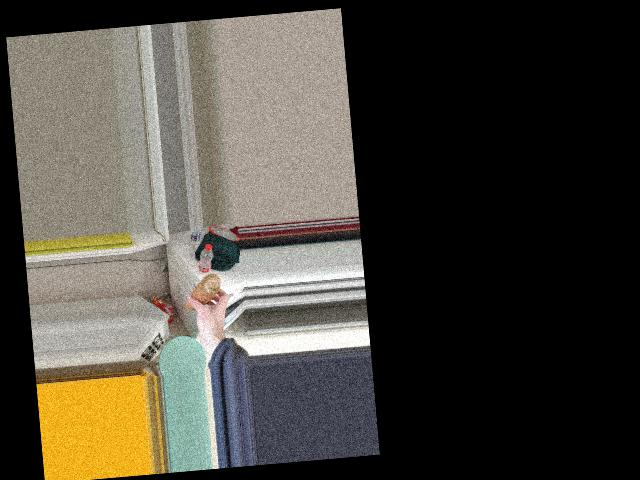sweet_potato: (179, 273, 226, 311)
